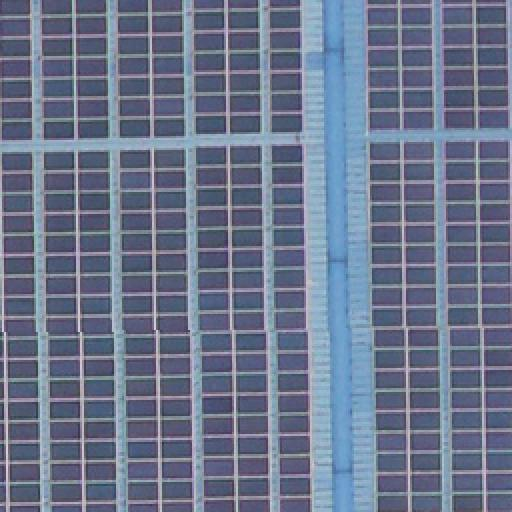solar-panel: (194, 145, 270, 511), (118, 148, 194, 512), (370, 144, 442, 512), (44, 152, 116, 512), (444, 140, 512, 512), (270, 145, 310, 511), (0, 152, 40, 512), (41, 1, 111, 143), (190, 0, 262, 136), (438, 0, 510, 132), (365, 1, 435, 135), (116, 0, 184, 136), (0, 1, 32, 143), (268, 1, 300, 135)
